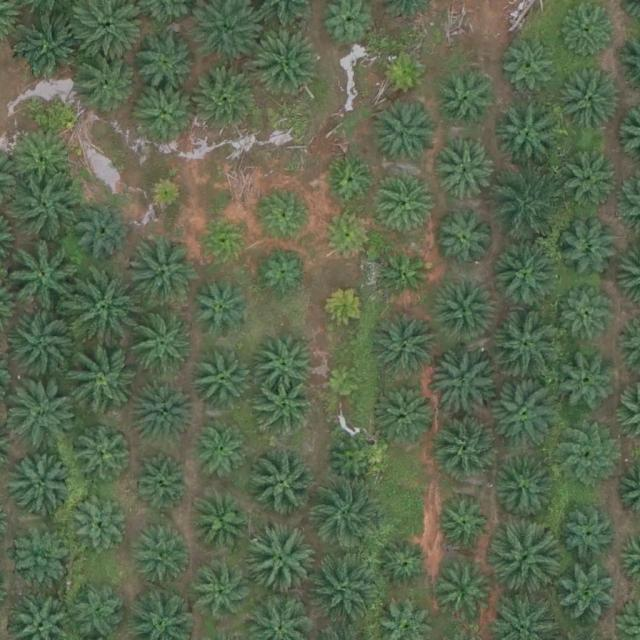Healthy: (491, 382, 562, 453), (370, 310, 441, 381), (312, 555, 383, 626), (491, 519, 562, 589), (432, 350, 502, 421), (314, 479, 384, 550), (248, 448, 318, 519), (244, 527, 314, 598), (7, 310, 78, 380), (7, 383, 77, 454), (492, 175, 563, 245), (251, 30, 321, 101), (189, 65, 259, 136), (16, 12, 87, 82), (9, 245, 80, 315), (493, 308, 563, 378), (66, 345, 136, 415), (492, 98, 562, 168), (129, 237, 199, 307), (68, 277, 138, 347), (13, 172, 83, 242), (432, 280, 495, 343), (440, 419, 503, 482), (187, 278, 250, 341), (372, 105, 435, 168), (12, 128, 75, 191), (554, 565, 616, 628), (495, 457, 557, 520), (379, 383, 441, 446), (254, 333, 316, 396), (192, 351, 254, 414), (192, 491, 254, 554), (193, 564, 255, 627), (133, 313, 195, 376), (130, 385, 193, 447), (131, 521, 193, 584), (74, 421, 136, 484), (11, 456, 73, 519), (9, 525, 71, 588), (497, 244, 560, 306), (559, 217, 621, 280), (561, 145, 623, 208), (560, 68, 623, 130), (436, 66, 498, 129), (436, 135, 498, 198), (432, 212, 494, 275), (372, 173, 434, 236), (137, 31, 199, 94), (137, 84, 199, 147), (71, 55, 133, 118), (555, 283, 617, 345), (563, 507, 618, 562), (559, 435, 614, 490), (559, 354, 614, 409), (440, 571, 495, 626), (377, 541, 432, 596), (327, 436, 382, 491), (259, 383, 314, 438), (194, 427, 249, 482), (134, 454, 189, 509), (72, 497, 127, 552), (72, 585, 127, 640), (259, 188, 314, 243), (259, 245, 314, 300), (320, 208, 375, 263), (325, 152, 380, 207), (501, 39, 556, 94), (79, 203, 134, 258), (438, 499, 492, 554), (197, 214, 251, 269), (378, 245, 432, 300)
Yellow: (379, 45, 434, 100), (323, 283, 370, 331), (326, 364, 365, 404), (145, 177, 184, 216)
